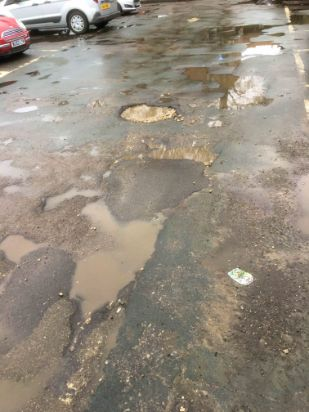pothole: (51, 199, 168, 356), (145, 140, 222, 169), (1, 229, 52, 266), (113, 97, 178, 124)
